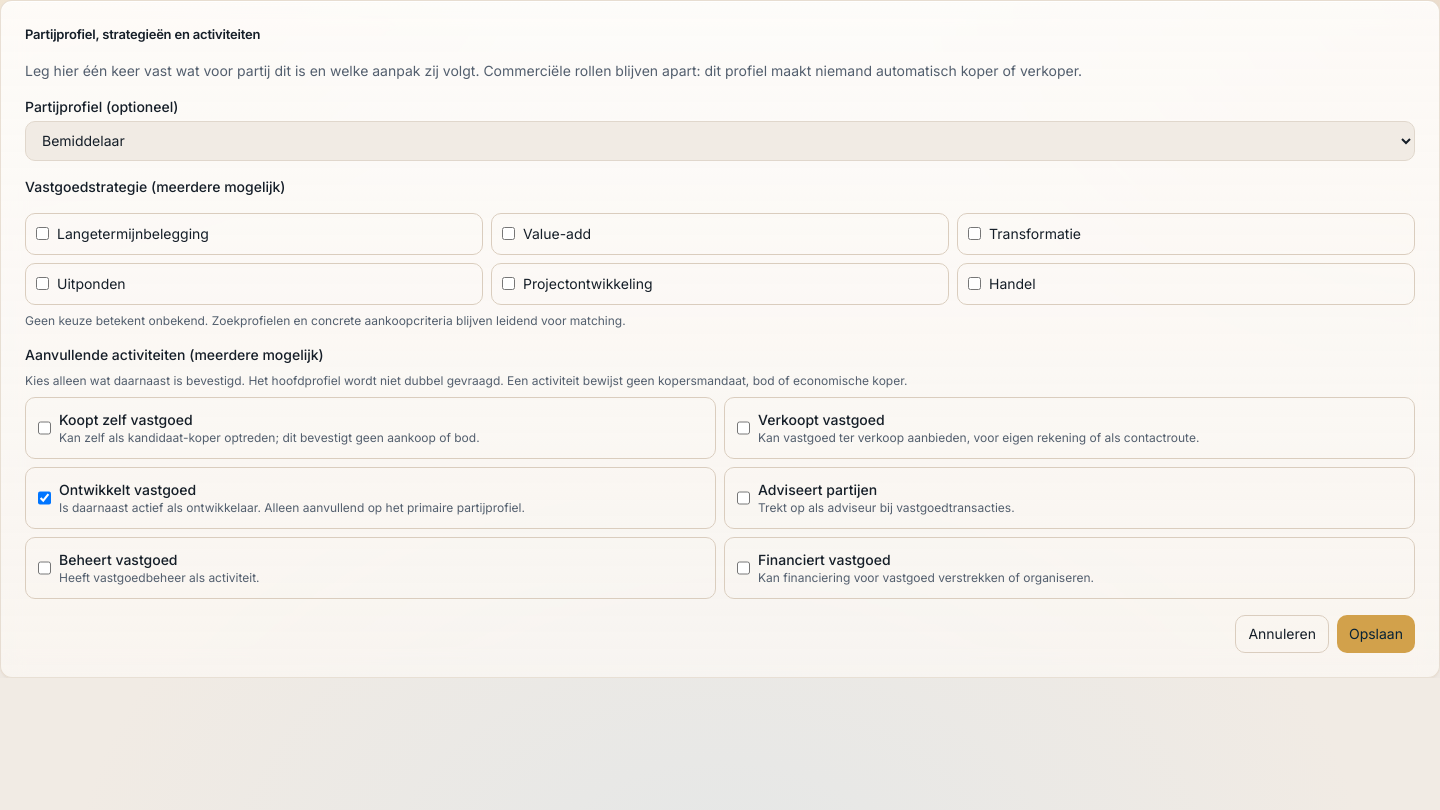
Test: A15.10 — één inline classificatie, één gerichte opslagpatch › weigert stale edit wanneer rollen elders zijn gewijzigd
Earlier steps of the test are not shown.
Click the button "Opslaan" at {"x": 1376, "y": 634}, box [1337,614,1415,652]
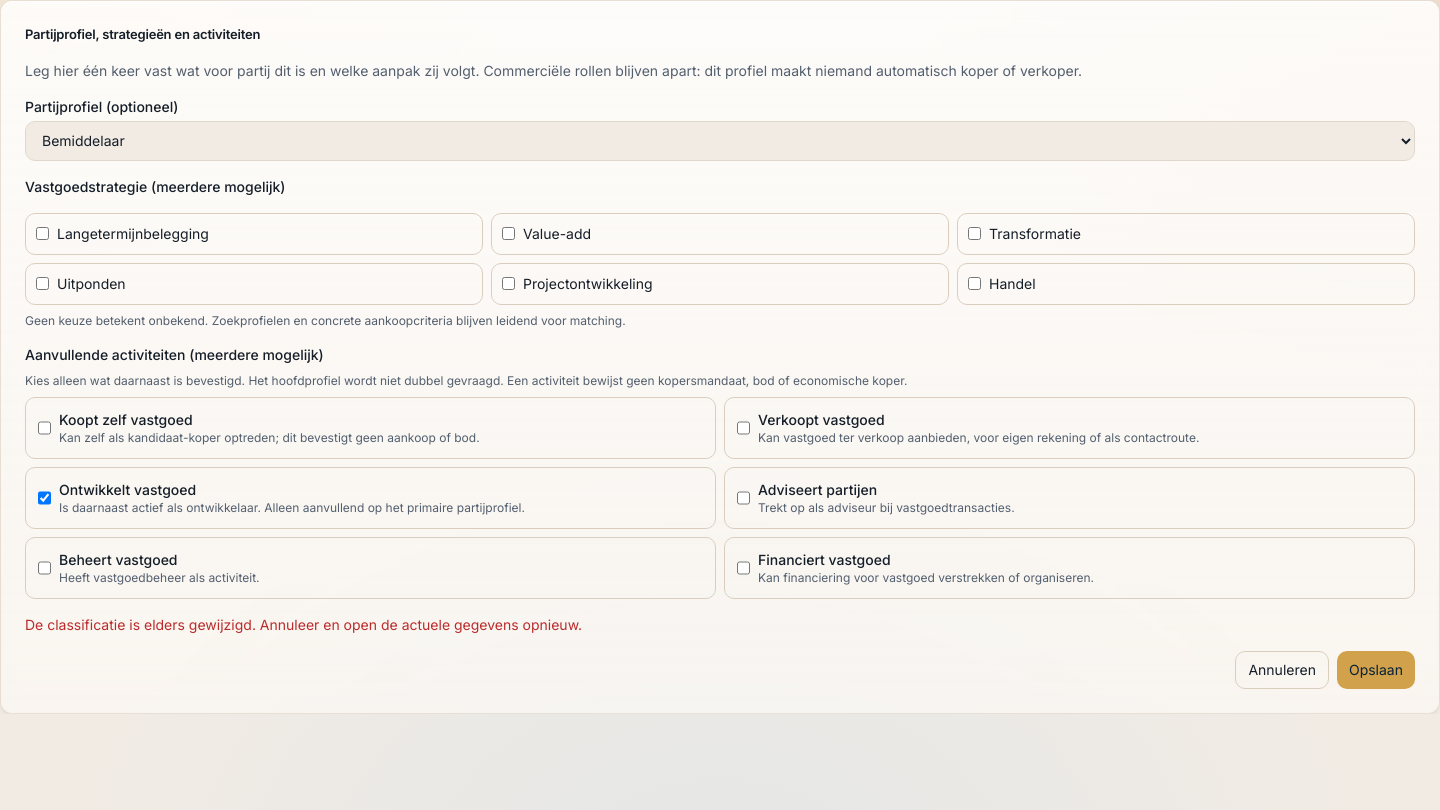
Now the message shows "elders gewijzigd", box [25,616,582,632]
